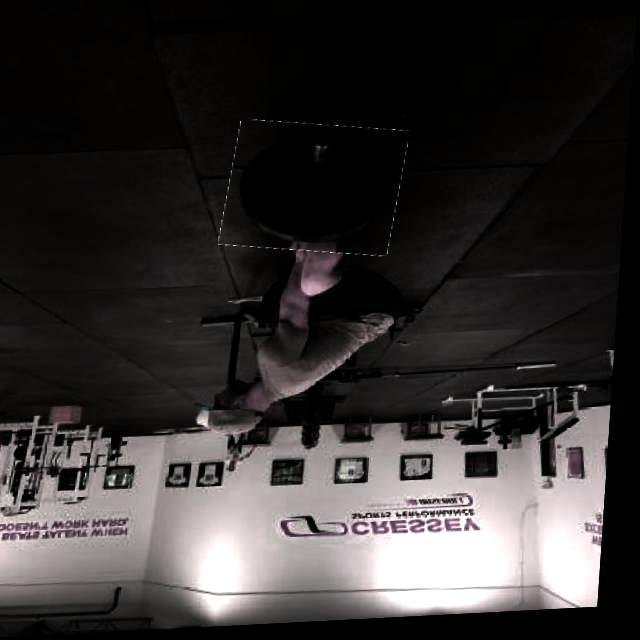barbell: (226, 121, 410, 262)
